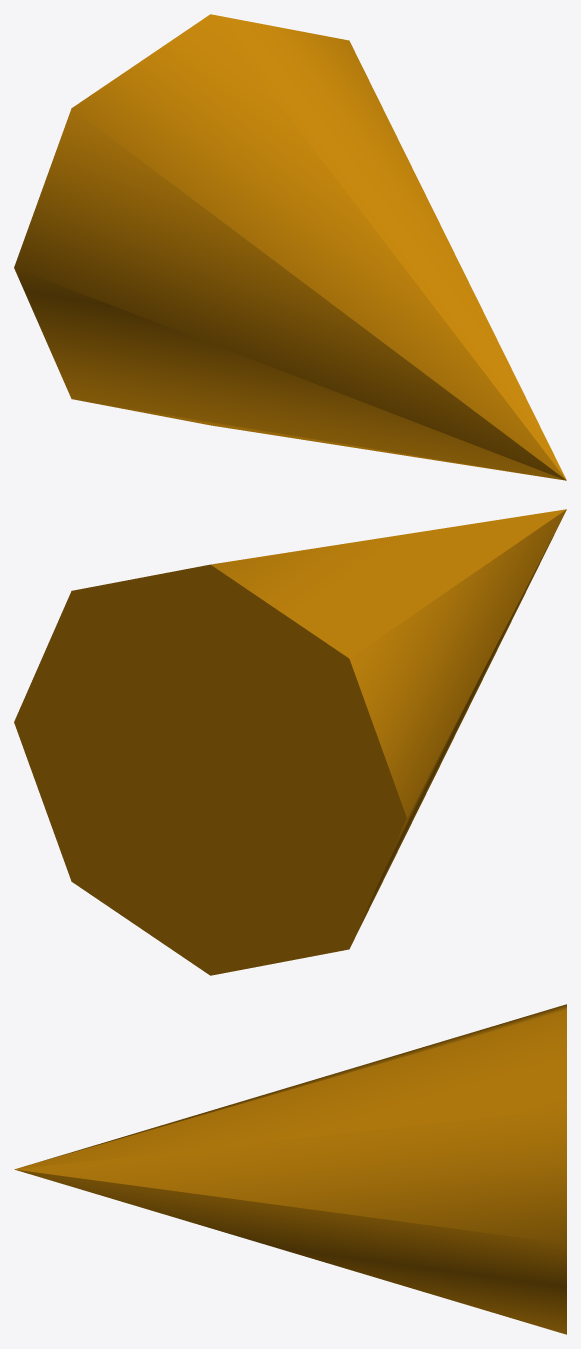
File: aircraft.glb
The picture shows the model from 3 angles, top to bottom: view 1: azimuth 30°, elevation 25°; view 2: azimuth 150°, elevation 25°; view 3: azimuth 270°, elevation 25°; orthographic projection. The views are drawn at different scales.
Bounding box in the file's own units: 14 × 14 × 22.
